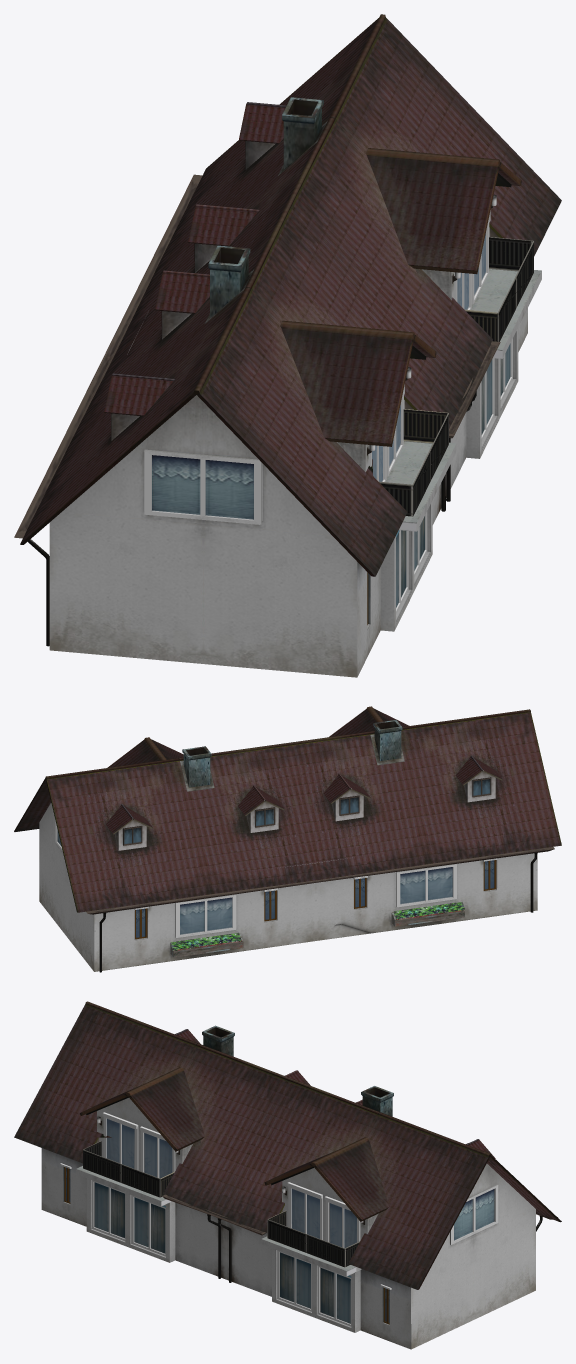
3 renders of one model, top to bottom at view 1: azimuth 30°, elevation 25°; view 2: azimuth 150°, elevation 25°; view 3: azimuth 270°, elevation 25°, orthographic. The views are drawn at different scales.
Visible parts, largest first — view 1: City_building_033; view 2: City_building_033; view 3: City_building_033.
Part boxes in pixels (x1,y1,x2,y2): City_building_033: (14, 14, 561, 677); City_building_033: (14, 706, 561, 972); City_building_033: (14, 1001, 561, 1349).
Bounding box in the file's own units: 2780 × 2915 × 1076.
1 material, 1 textured.
